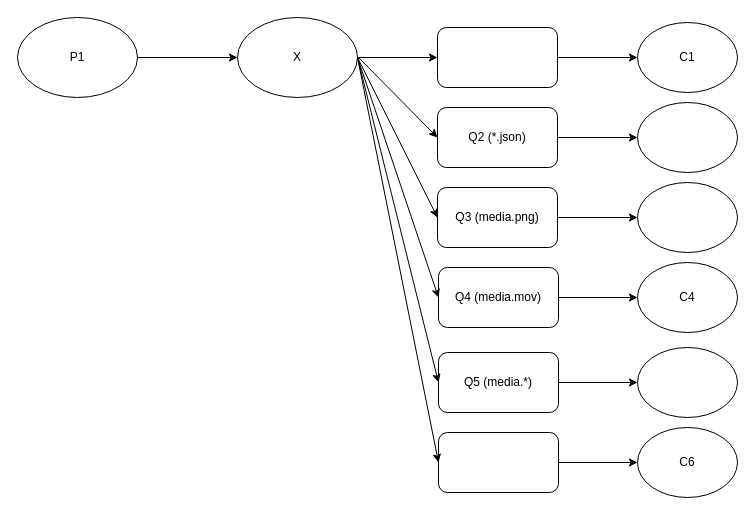
The diagram is 755 pixels wide and 515 high, and some of its shapes have lost their labels. Each missing label, with the box of its shape:
C2: (636, 102, 738, 172)
C3: (636, 182, 738, 252)
C5: (636, 346, 738, 418)
Q1 (text.csv): (436, 26, 558, 88)
Q6 (text.*): (438, 432, 558, 492)
